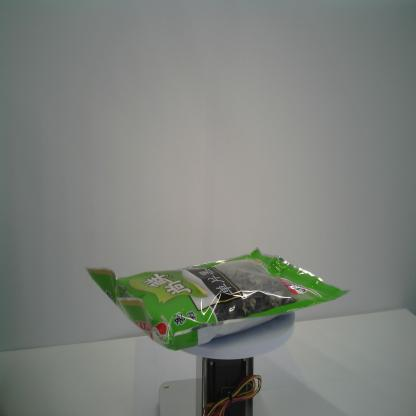Dried Food: (81, 244, 354, 352)
